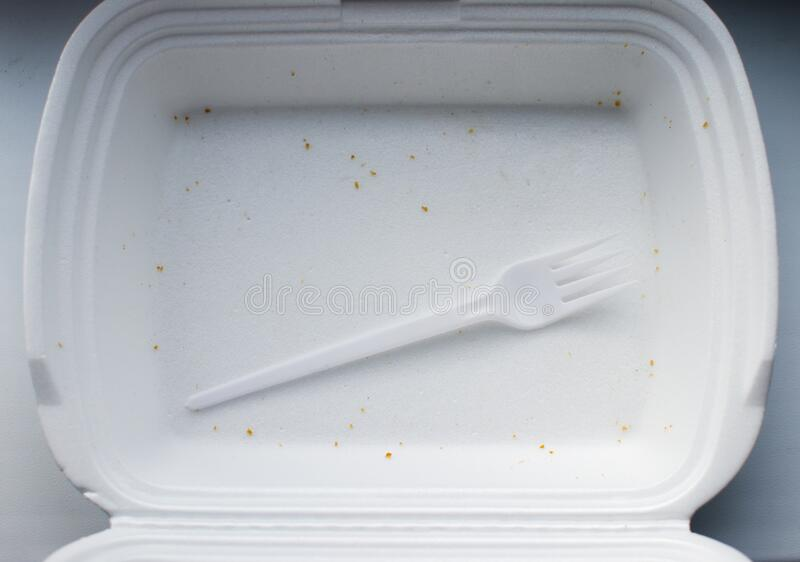Foam Box: (8, 1, 785, 530)
